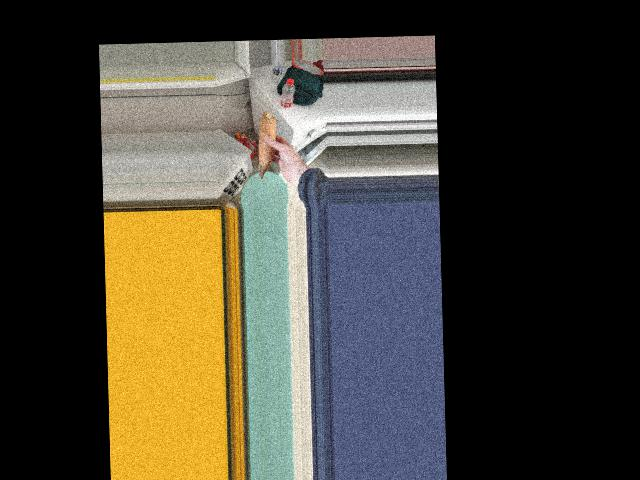sweet_potato: (258, 111, 278, 176)
